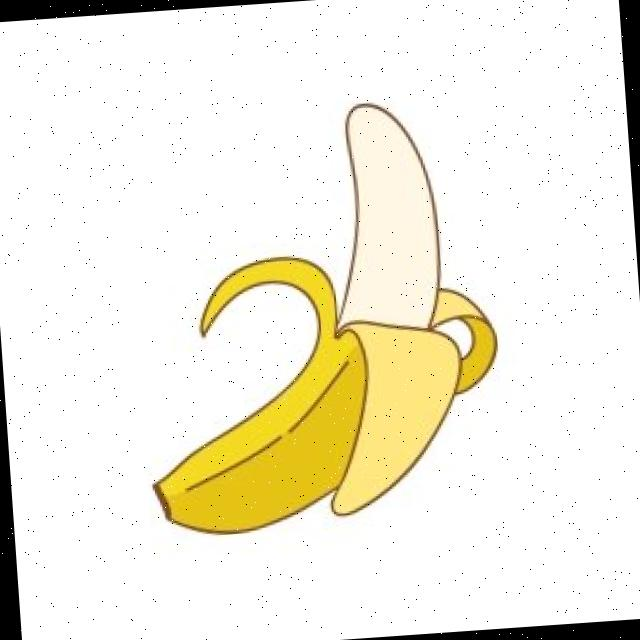Pisang: (124, 92, 509, 538)
